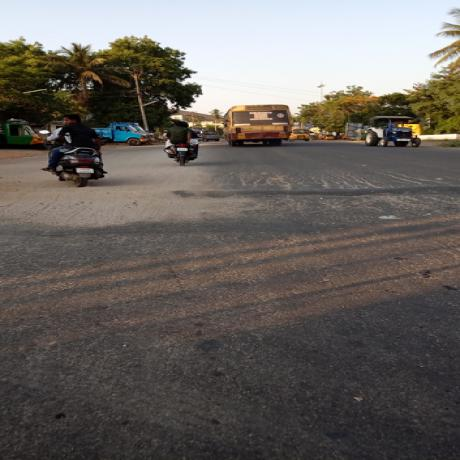Speed Bump: (29, 184, 459, 201)
